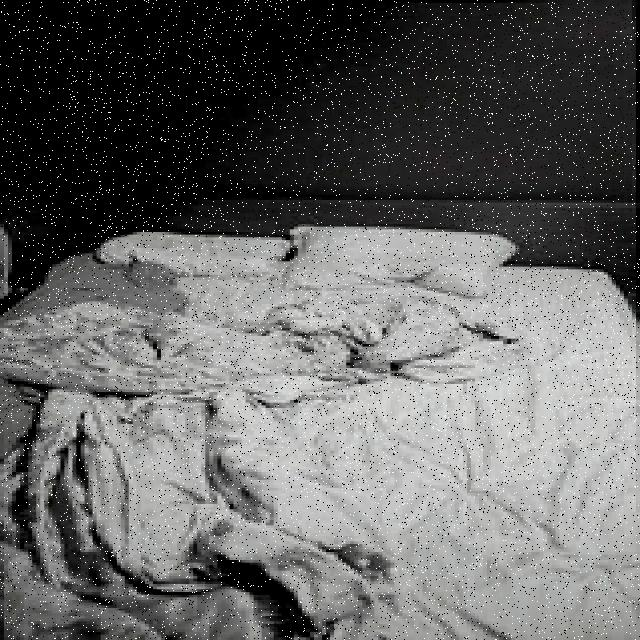bed: (0, 226, 630, 640)
